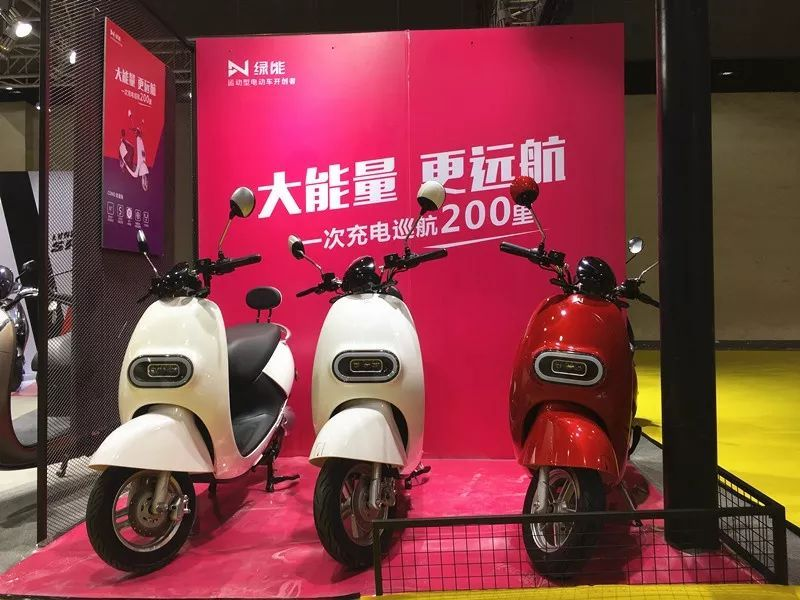电动车: (80, 181, 304, 597), (483, 169, 676, 584), (275, 172, 460, 576)
